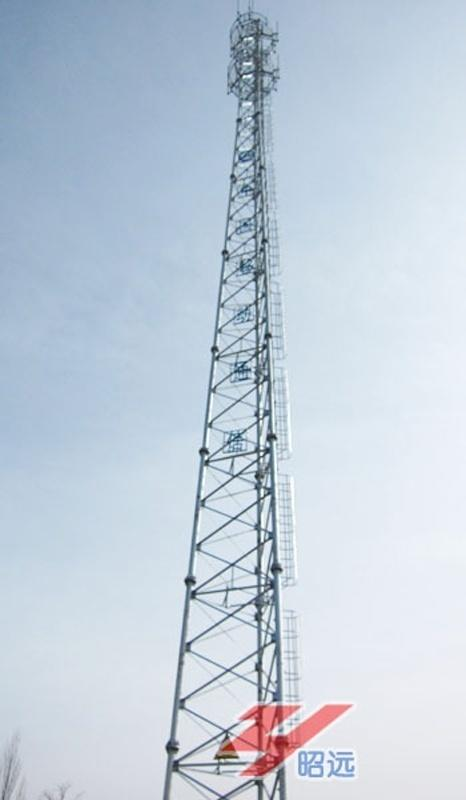power_tower: (188, 12, 302, 781)
